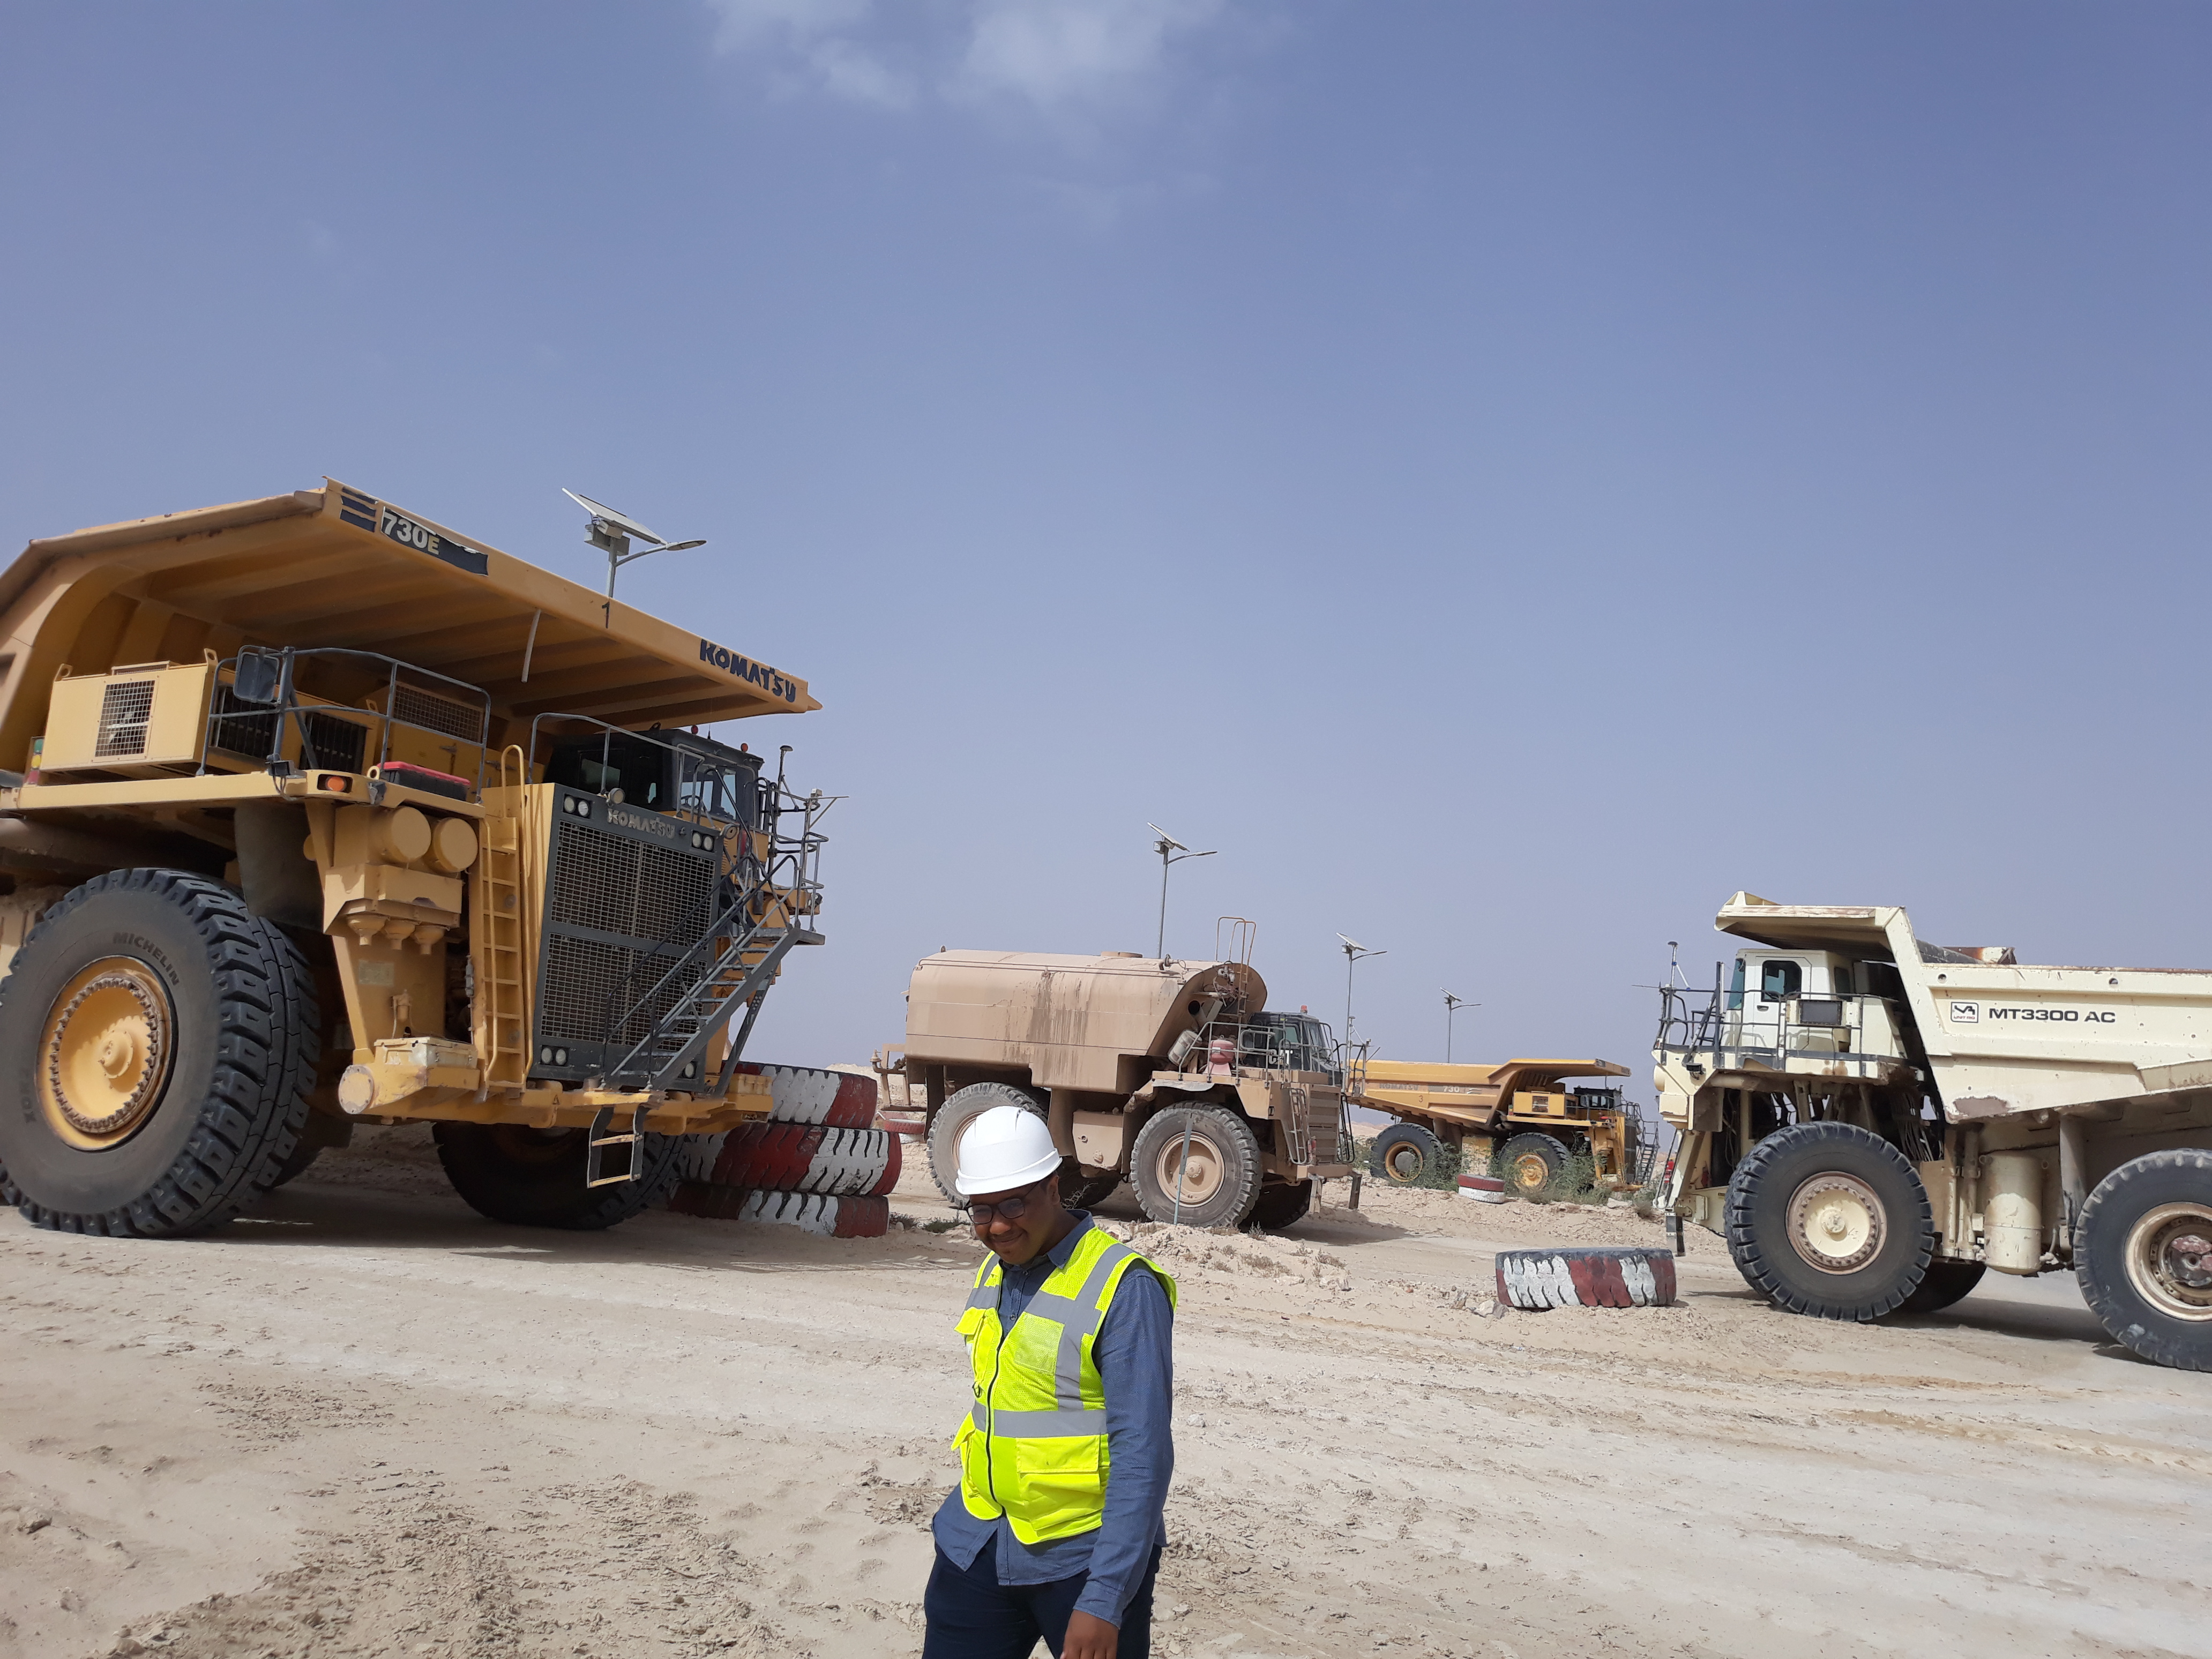camion: (1, 477, 828, 1275), (1652, 868, 2212, 1398), (1296, 1013, 1670, 1236)
person: (913, 1091, 1199, 1659)
